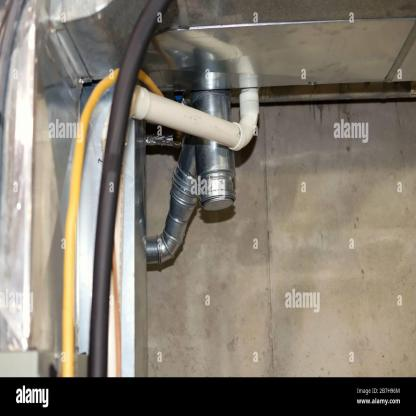PVC: (129, 85, 260, 150), (106, 140, 129, 379), (102, 102, 111, 166)
